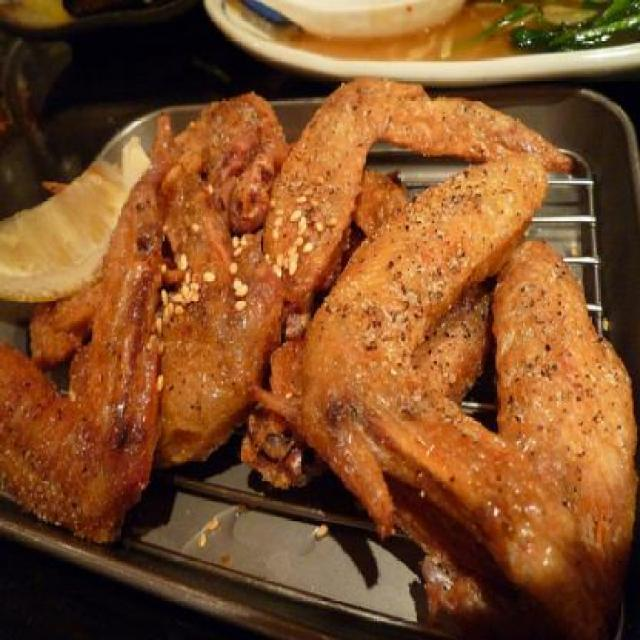Deep fried chicken wing: (37, 86, 617, 605)
Lemon: (8, 109, 134, 309)
